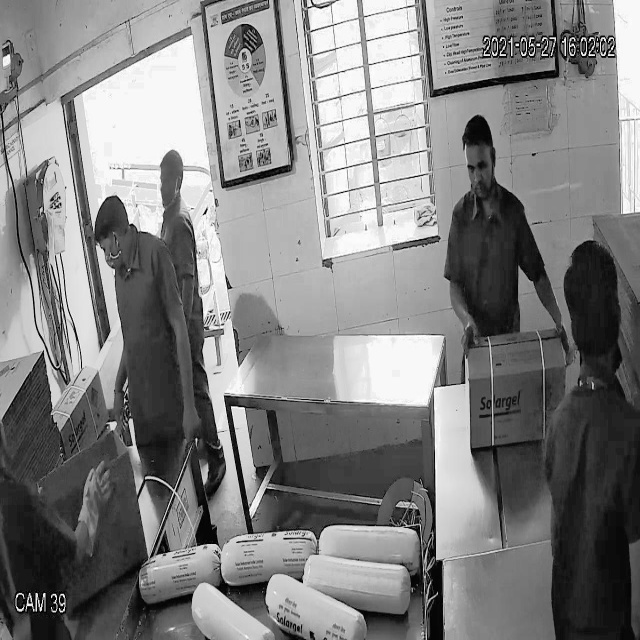Sin_gafas: (462, 151, 498, 183)
